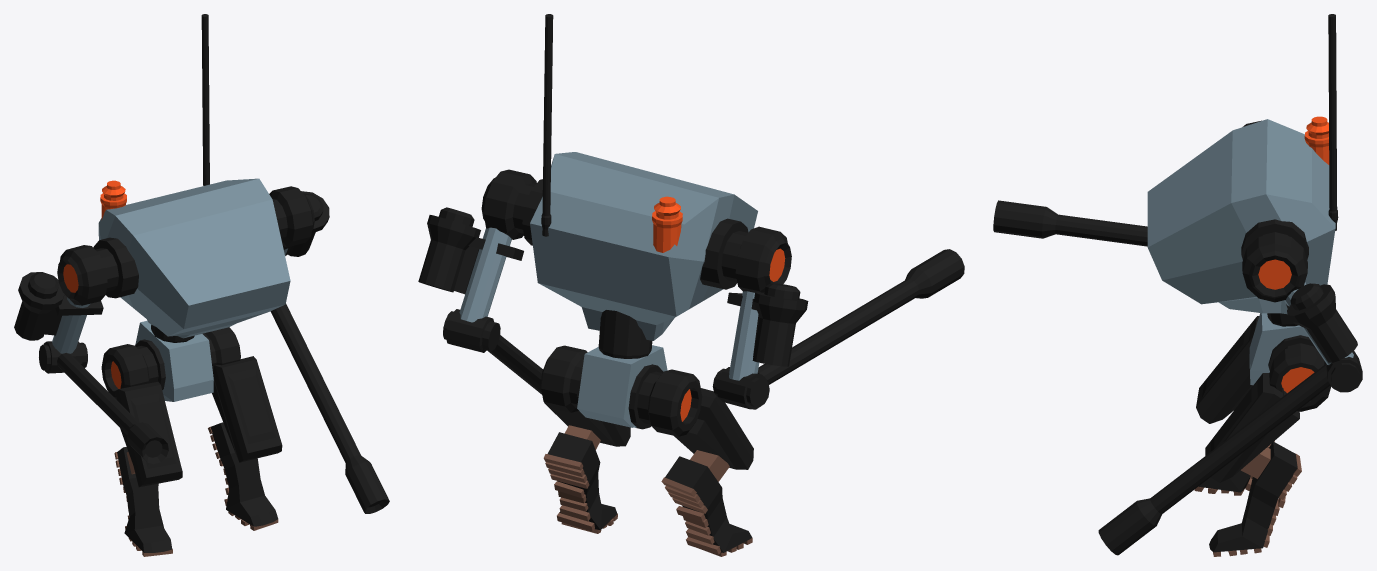
File: Little Mech.glb
The picture shows the model from 3 angles, left to right: view 1: azimuth 30°, elevation 25°; view 2: azimuth 150°, elevation 25°; view 3: azimuth 270°, elevation 25°; orthographic projection. The views are drawn at different scales.
Parts seen in each view (by area): view 1: group1045434142, group2136455077, group1192835647, group156163791, group1453157012, group87341407, group563586981, group481508738, group264653138, group1763965482, group439166542, group194447141 (+6 smaller); view 2: group1045434142, group1453157012, group264653138, group1763965482, group156163791, group563586981, group481508738, group439166542, group194447141, group918398705, group87341407, group1675793137 (+8 smaller); view 3: group1045434142, group1192835647, group563586981, group194447141, group1763965482, group918398705, group87341407, group2136455077, group1453157012, group1556095763, group481508738, group1109703454 (+2 smaller).
Part boxes in pixels (left/top/right/bottom): group1045434142: left=98, top=178, right=290, bottom=338; group2136455077: left=212, top=356, right=282, bottom=462; group1192835647: left=270, top=303, right=389, bottom=513; group156163791: left=57, top=237, right=138, bottom=305; group1453157012: left=101, top=327, right=240, bottom=399; group87341407: left=115, top=381, right=182, bottom=487; group563586981: left=208, top=422, right=278, bottom=530; group481508738: left=135, top=320, right=213, bottom=401; group264653138: left=114, top=447, right=172, bottom=556; group1763965482: left=57, top=353, right=168, bottom=463; group439166542: left=14, top=272, right=64, bottom=340; group194447141: left=269, top=186, right=314, bottom=247; group1045434142: left=530, top=152, right=757, bottom=340; group1453157012: left=540, top=345, right=702, bottom=436; group264653138: left=661, top=450, right=752, bottom=556; group1763965482: left=757, top=249, right=964, bottom=384; group156163791: left=700, top=218, right=791, bottom=292; group563586981: left=543, top=425, right=617, bottom=533; group481508738: left=577, top=345, right=667, bottom=427; group439166542: left=752, top=283, right=808, bottom=366; group194447141: left=481, top=169, right=542, bottom=245; group918398705: left=418, top=207, right=480, bottom=292; group87341407: left=674, top=388, right=753, bottom=469; group1675793137: left=459, top=227, right=511, bottom=322; group1045434142: left=1147, top=119, right=1335, bottom=314; group1192835647: left=1098, top=363, right=1330, bottom=555; group563586981: left=1209, top=442, right=1301, bottom=556; group194447141: left=1241, top=219, right=1308, bottom=302; group1763965482: left=993, top=200, right=1147, bottom=246; group918398705: left=1287, top=283, right=1357, bottom=362; group87341407: left=1196, top=316, right=1259, bottom=423; group2136455077: left=1205, top=373, right=1299, bottom=482; group1453157012: left=1268, top=335, right=1331, bottom=411; group1556095763: left=1328, top=14, right=1338, bottom=230; group481508738: left=1249, top=313, right=1308, bottom=385; group1109703454: left=1324, top=351, right=1362, bottom=392.
Size of the model in its own units: 1.05 by 1.47 by 0.9255.
